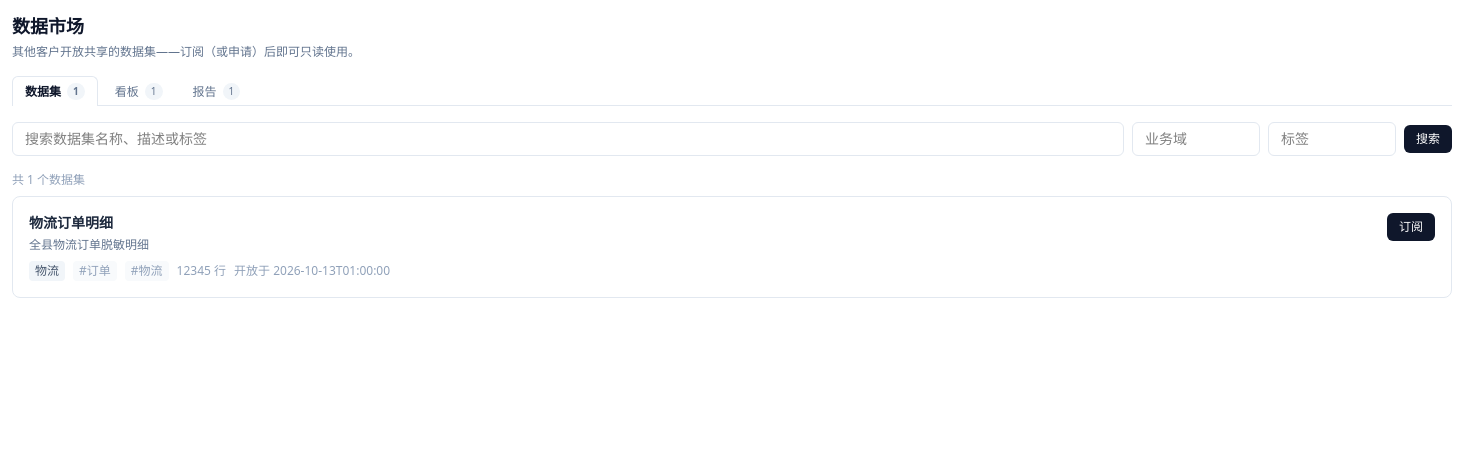
Test: MarketPage（wire-dataset-marketplace） › 详情：点名称拉详情并渲染列 schema（无数据值）
Click the heading "物流订单明细": [71, 223] box [29, 213, 113, 232]
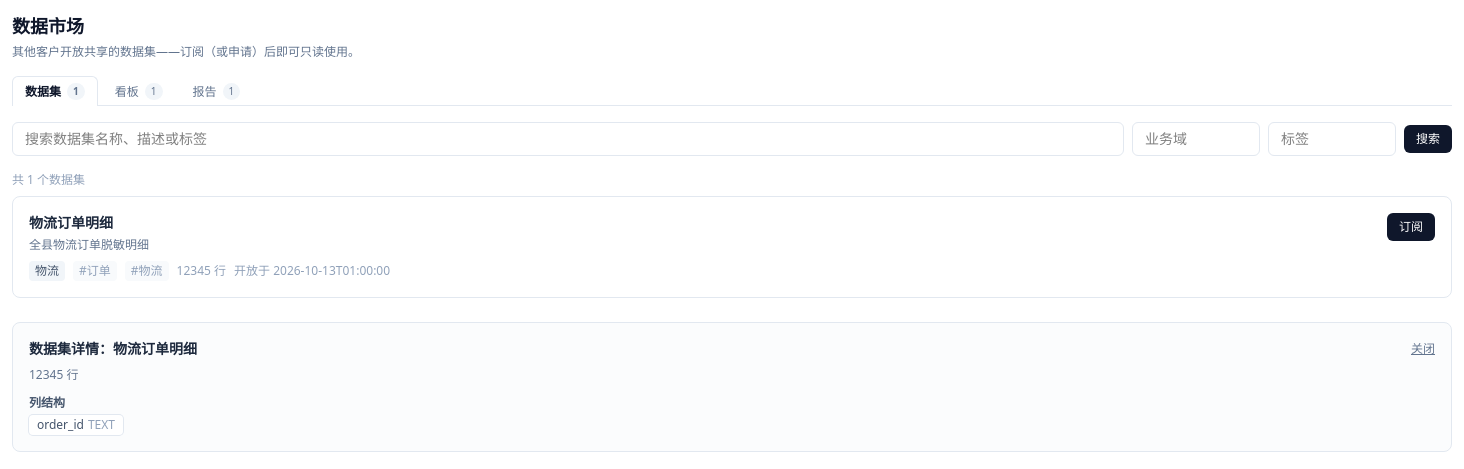
expect the list item with test id "market-item-ds-1" is shown: met, box [12, 196, 1452, 298]
expect the element with test id "market-detail" shows "order_id": met, box [37, 416, 84, 433]
expect the element with test id "market-detail" shows "TEXT": met, box [88, 416, 115, 433]
